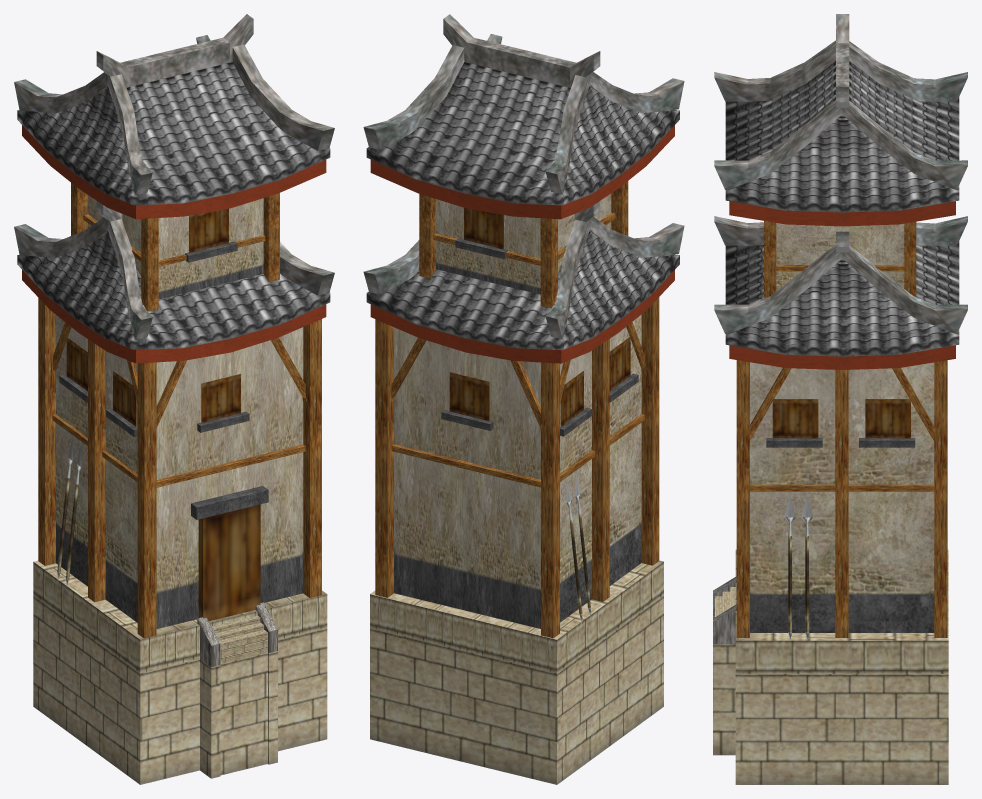
Rendered from stone_tower.dae.
3 views of the same model, side by side, from view 1: azimuth 30°, elevation 25°; view 2: azimuth 150°, elevation 25°; view 3: azimuth 270°, elevation 25° (orthographic).
Parts seen in each view (by area): view 1: stone_tower; view 2: stone_tower; view 3: stone_tower.
Part boxes in pixels (x1,y1,x2,y2): stone_tower: (14,14,334,784); stone_tower: (363,14,684,784); stone_tower: (713,14,967,784).
Size of the model in its own units: 7.52 by 8.41 by 25.
